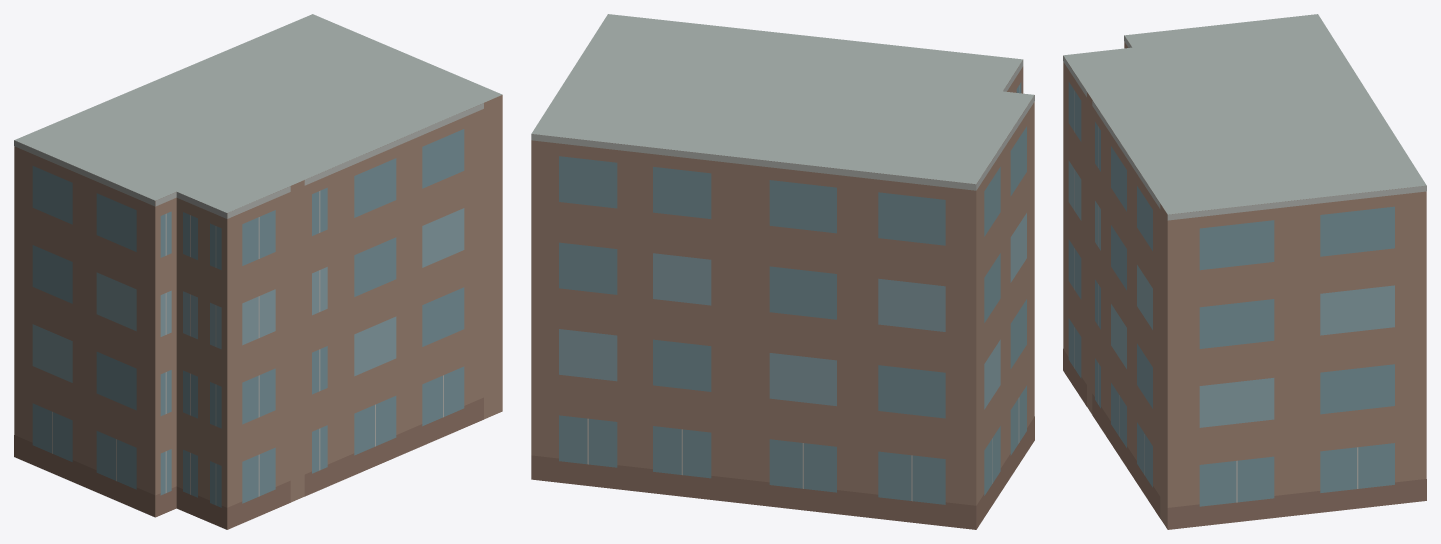
File: survey-upis-32859841.glb
3 views of the same model, side by side, from view 1: azimuth 30°, elevation 25°; view 2: azimuth 150°, elevation 25°; view 3: azimuth 270°, elevation 25° (orthographic). The views are drawn at different scales.
Visible parts, largest first — view 1: survey-upis-32859841.tmp; view 2: survey-upis-32859841.tmp; view 3: survey-upis-32859841.tmp.
Part boxes in pixels (x1,y1,x2,y2): survey-upis-32859841.tmp: (14,14,502,529); survey-upis-32859841.tmp: (531,14,1034,529); survey-upis-32859841.tmp: (1063,14,1426,529).
Bounding box in the file's own units: 17.75 × 13 × 13.6.
